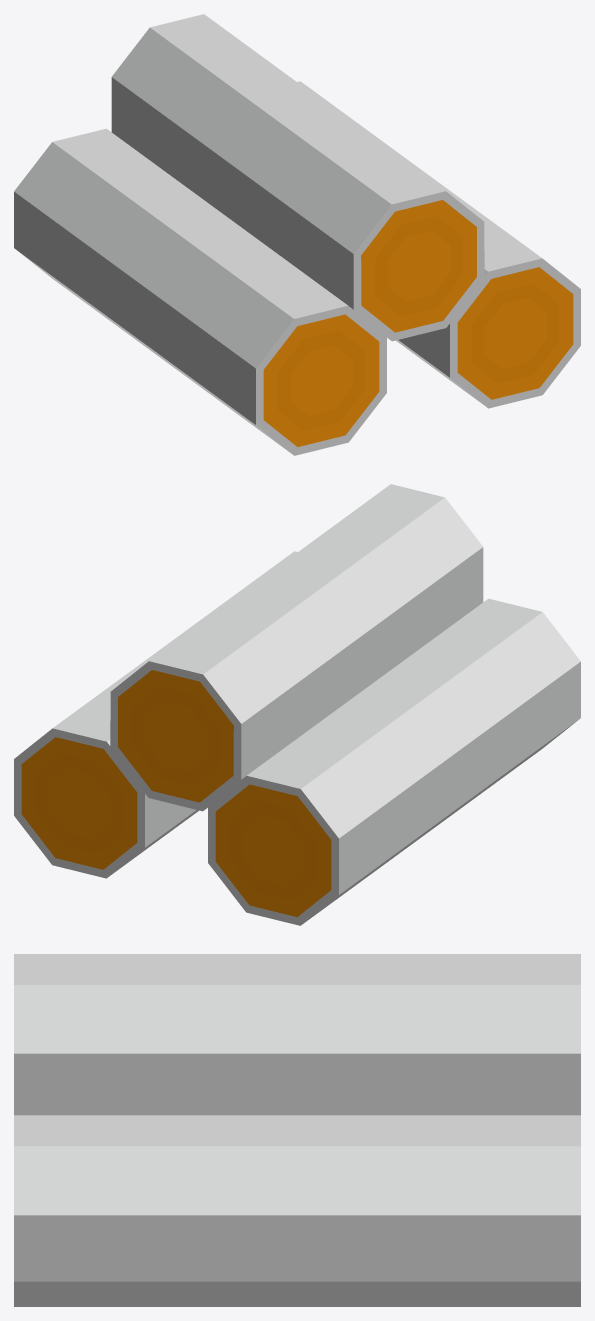
The model's file is Small Log_10.fbx.
3 renders of one model, top to bottom at view 1: azimuth 30°, elevation 25°; view 2: azimuth 150°, elevation 25°; view 3: azimuth 270°, elevation 25°, orthographic. The views are drawn at different scales.
Parts seen in each view (by area): view 1: Circle.264; view 2: Circle.264; view 3: Circle.264.
Boxes of the visible parts, x1,y1,x2,y2 form: Circle.264: [14, 14, 580, 455]; Circle.264: [14, 484, 580, 925]; Circle.264: [14, 954, 580, 1306].
Bounding box in the file's own units: 18.25 × 12.23 × 23.54.
